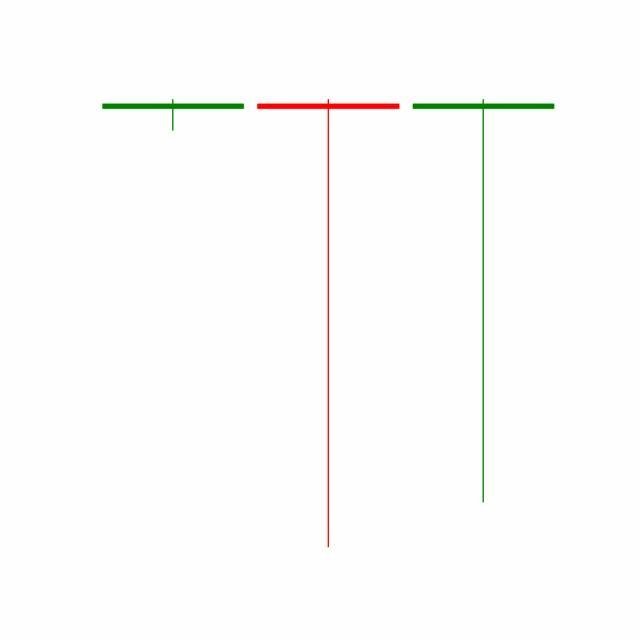Dragonfly Doji: (406, 96, 562, 508)
